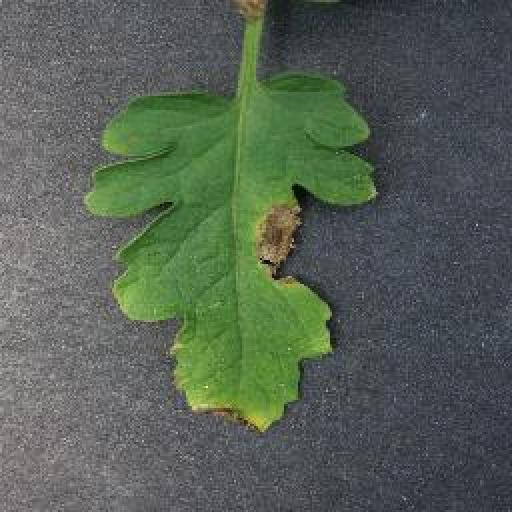disease_tomato: (86, 74, 380, 438)
